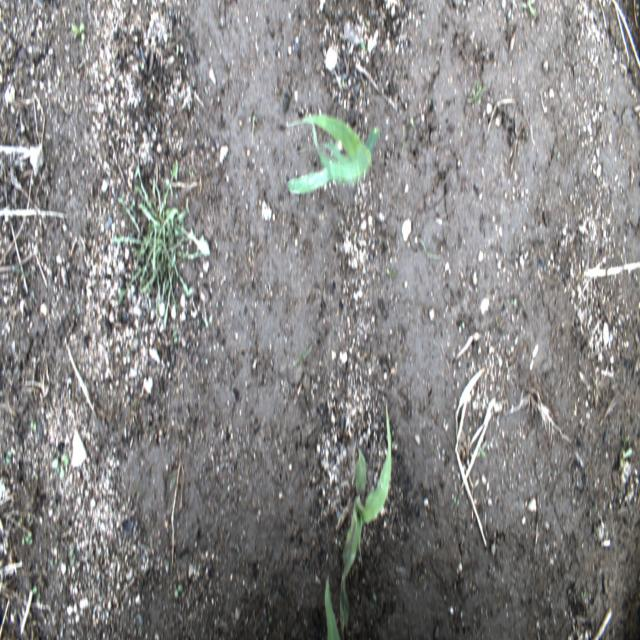crop: (338, 400, 392, 633), (287, 112, 381, 196), (323, 568, 340, 636)
weed: (115, 150, 209, 332), (66, 17, 91, 48), (519, 0, 541, 33), (52, 444, 71, 479), (4, 445, 15, 486), (22, 524, 34, 554), (466, 87, 484, 107), (621, 443, 635, 466)
